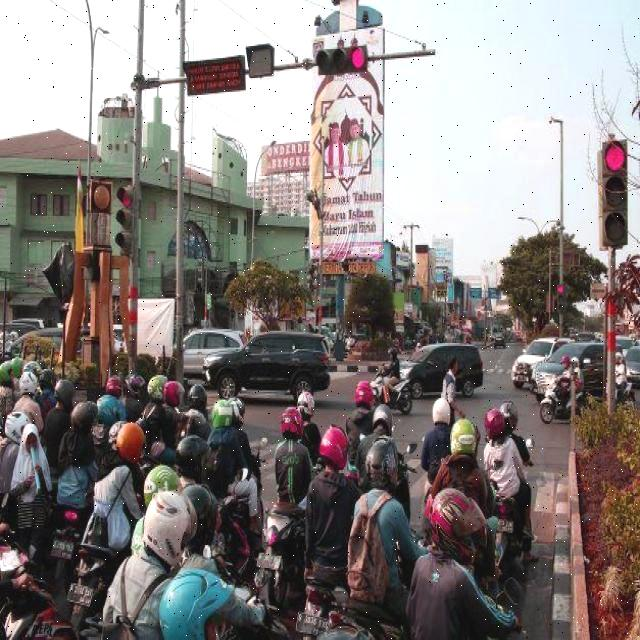Czerwone swiatlo: (601, 138, 628, 252), (316, 51, 368, 76), (117, 184, 133, 254), (556, 283, 566, 314)
